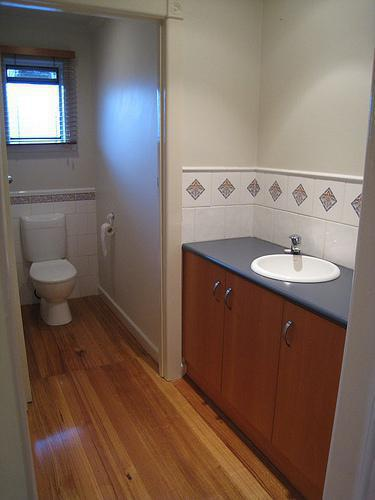Lavamanos: (248, 225, 342, 290)
Sanitario: (20, 208, 80, 329)
